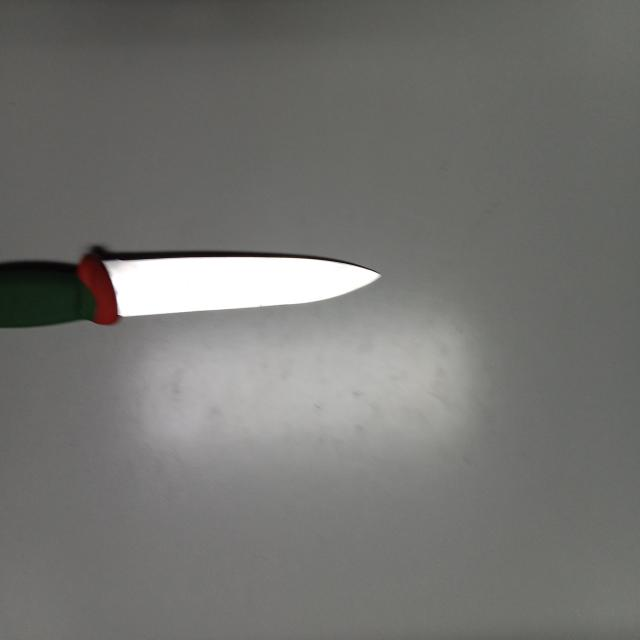Knife: (0, 254, 380, 327)
